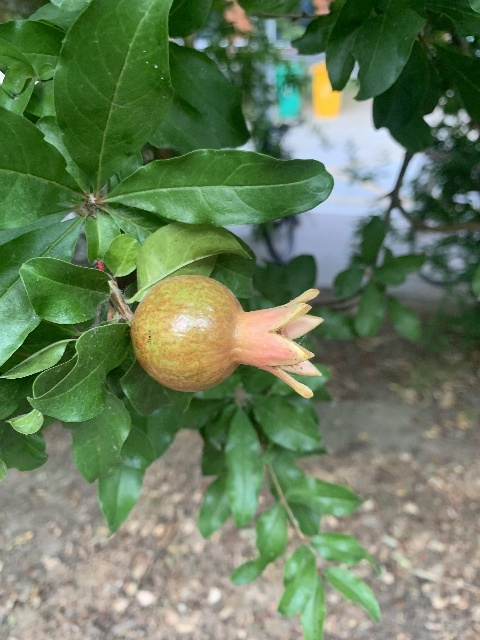early-fruit: (131, 274, 323, 400)
